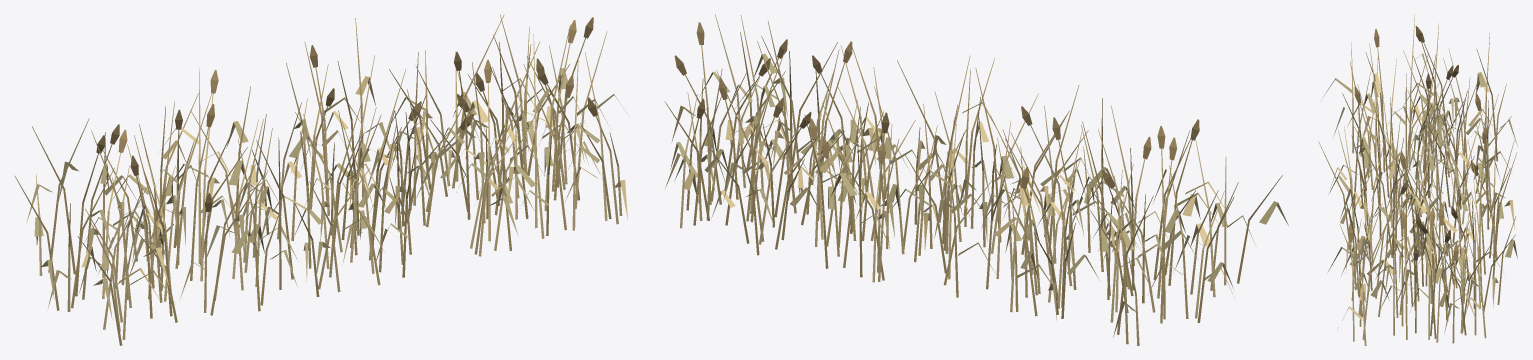
Rendered from CW_ReedVolume_LOD1.fbx.
The picture shows the model from 3 angles, left to right: view 1: azimuth 30°, elevation 25°; view 2: azimuth 150°, elevation 25°; view 3: azimuth 270°, elevation 25°; orthographic projection. The views are drawn at different scales.
Parts seen in each view (by area): view 1: CW_ReedVolume_Reduced; view 2: CW_ReedVolume_Reduced; view 3: CW_ReedVolume_Reduced.
Boxes of the visible parts, x1,y1,x2,y2 form: CW_ReedVolume_Reduced: (14, 14, 627, 345); CW_ReedVolume_Reduced: (664, 14, 1288, 345); CW_ReedVolume_Reduced: (1318, 14, 1517, 345).
Size of the model in its own units: 3.86 by 1.2 by 1.47.
